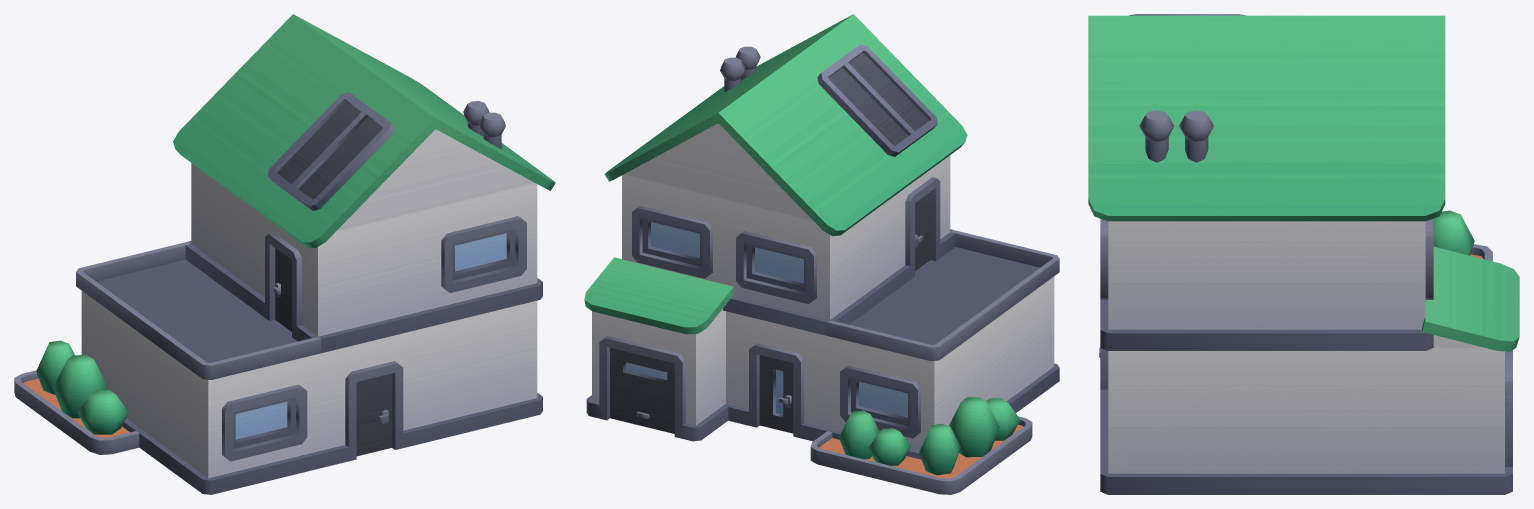
File: building_type_u.glb
3 renders of one model, left to right at view 1: azimuth 30°, elevation 25°; view 2: azimuth 150°, elevation 25°; view 3: azimuth 270°, elevation 25°, orthographic. The views are drawn at different scales.
Visible parts, largest first — view 1: building-type-u; view 2: building-type-u; view 3: building-type-u.
Part boxes in pixels (x1,y1,x2,y2): building-type-u: [14, 14, 555, 494]; building-type-u: [584, 14, 1059, 494]; building-type-u: [1088, 14, 1519, 494].
Size of the model in its own units: 1.43 by 1.14 by 1.09.
1 material, 1 textured.
